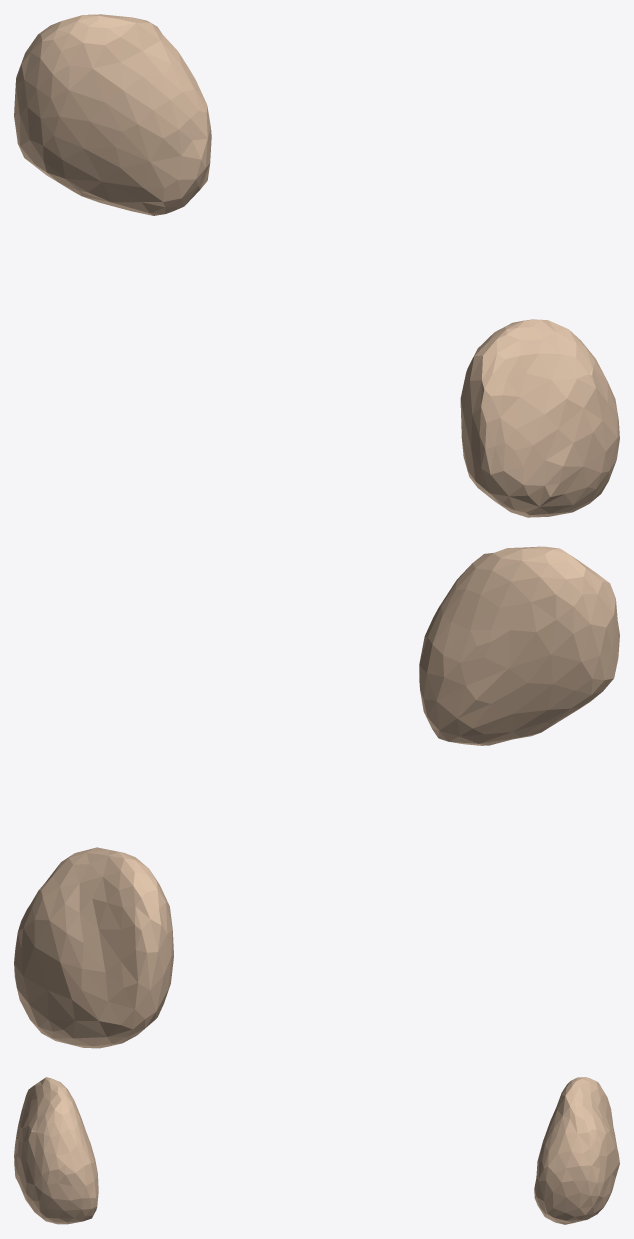
3 renders of one model, top to bottom at view 1: azimuth 30°, elevation 25°; view 2: azimuth 150°, elevation 25°; view 3: azimuth 270°, elevation 25°, orthographic. The views are drawn at different scales.
Visible parts, largest first — view 1: 621.obj; view 2: 621.obj; view 3: 621.obj.
Boxes of the visible parts, bbox=[...] form: 621.obj: bbox=[14, 14, 619, 517]; 621.obj: bbox=[14, 546, 619, 1048]; 621.obj: bbox=[14, 1077, 619, 1224].
Bounding box in the file's own units: 704 × 849 × 3699.
